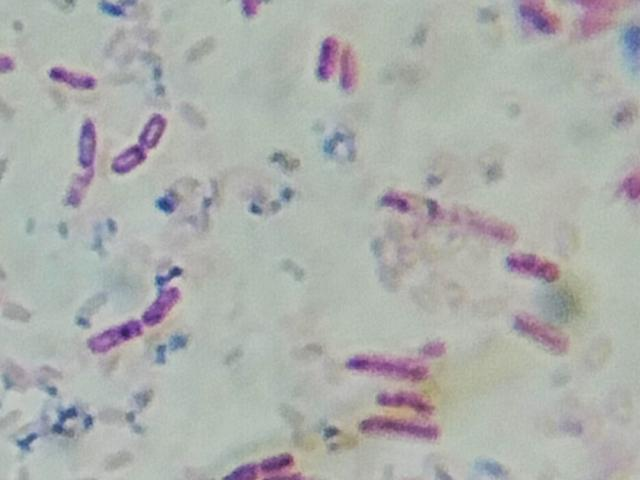E. coli: (385, 186, 511, 241), (65, 115, 105, 208), (342, 347, 433, 382), (501, 245, 569, 283), (511, 313, 573, 350), (356, 416, 445, 441), (88, 317, 145, 355), (50, 55, 98, 97), (139, 279, 184, 323), (311, 27, 338, 85), (373, 390, 439, 413), (508, 0, 563, 27), (111, 140, 148, 177), (613, 166, 640, 214), (139, 110, 167, 151), (339, 43, 361, 94), (234, 0, 265, 32), (261, 452, 297, 477), (225, 457, 260, 480)
